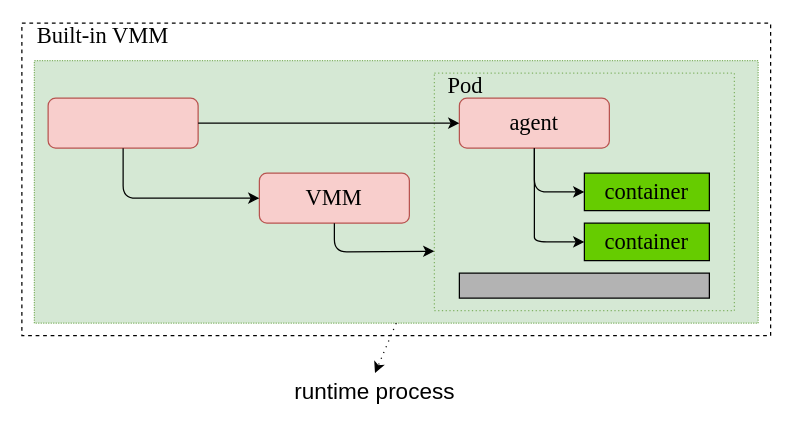
The diagram is 793 pixels wide and 431 high, and some of its shapes have lost their labels. Here are the shapes that lost their labels. From the top down, the box of each, then its label:
(47, 97, 198, 148): runtime
(458, 272, 709, 298): guest kernel
